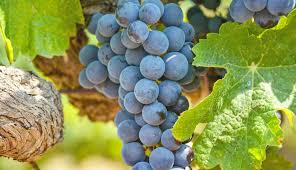Black grapes: (83, 1, 207, 169)
